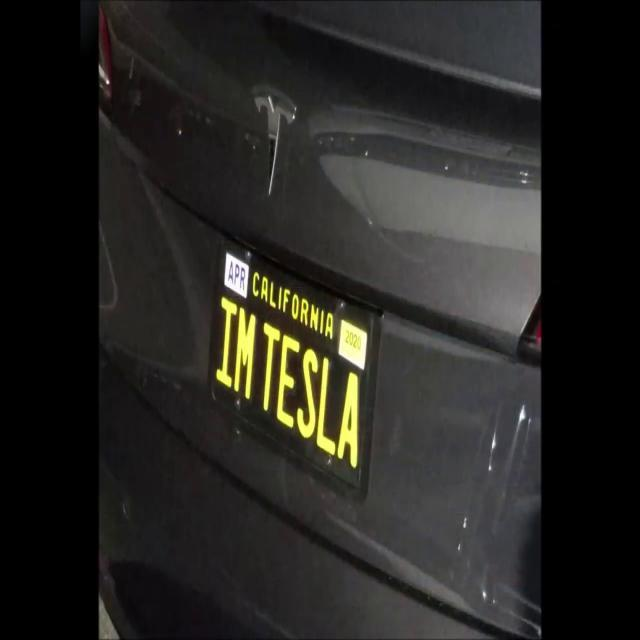licenseplate: (212, 238, 380, 479)
